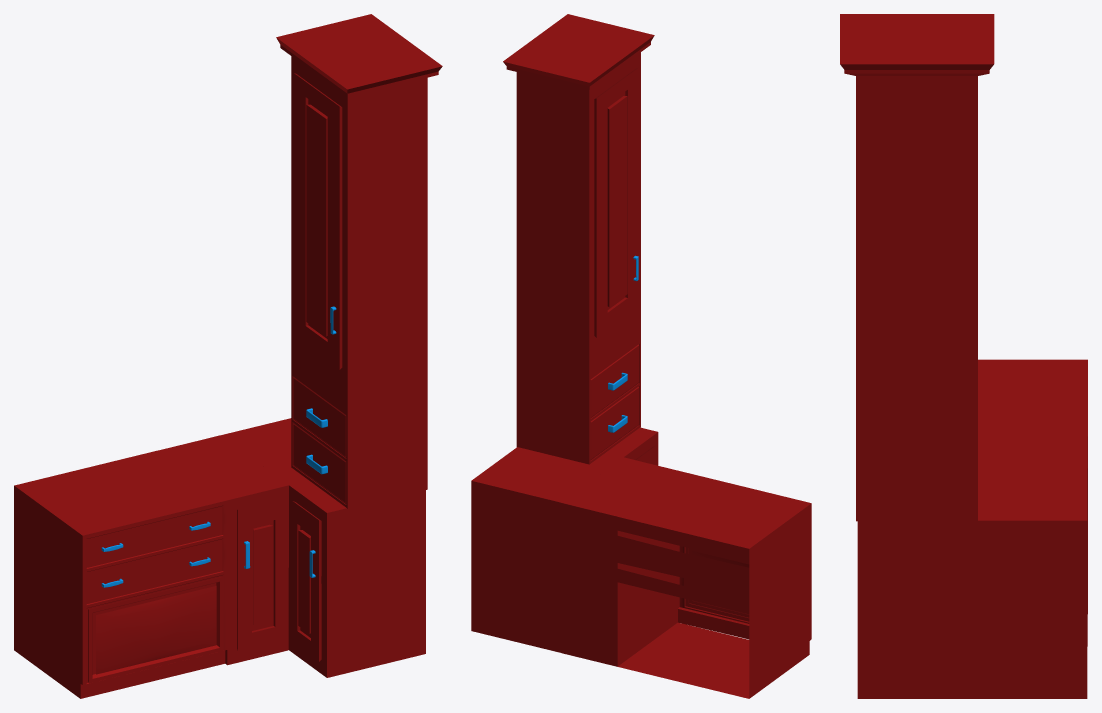
Rendered from angle.fbx.
3 renders of one model, left to right at view 1: azimuth 30°, elevation 25°; view 2: azimuth 150°, elevation 25°; view 3: azimuth 270°, elevation 25°, orthographic. The views are drawn at different scales.
Parts seen in each view (by area): view 1: angle; view 2: angle; view 3: angle.
Boxes of the visible parts, x1=… form: angle: x1=14, y1=14, x2=442, y2=698; angle: x1=471, y1=14, x2=811, y2=698; angle: x1=840, y1=14, x2=1087, y2=698.
Size of the model in its own units: 129 by 233 by 81.97.
